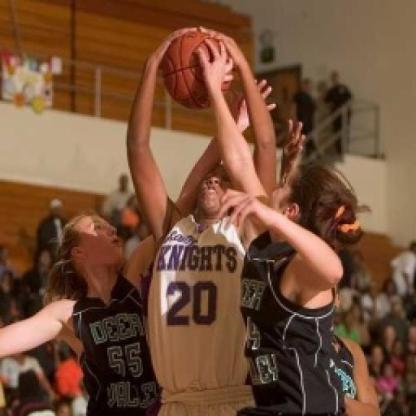basketball: (159, 26, 238, 110)
